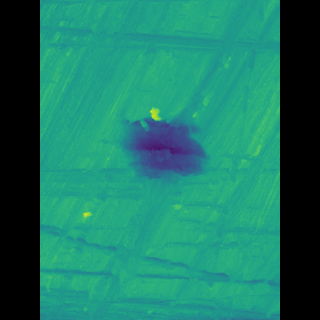Loch: (188, 0, 248, 318), (123, 102, 201, 184), (69, 21, 250, 55)
